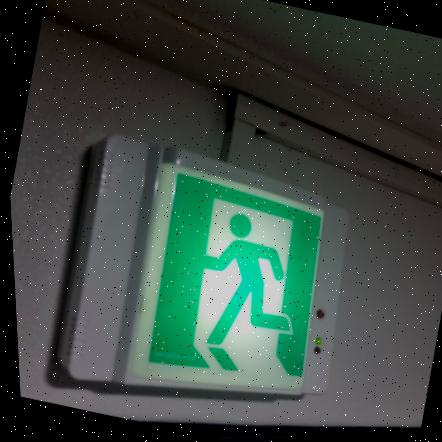emergency_exit: (121, 153, 324, 397)
